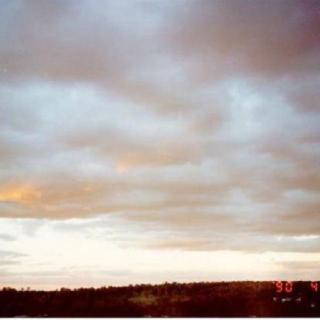Stratocumulus: (0, 2, 320, 260)
